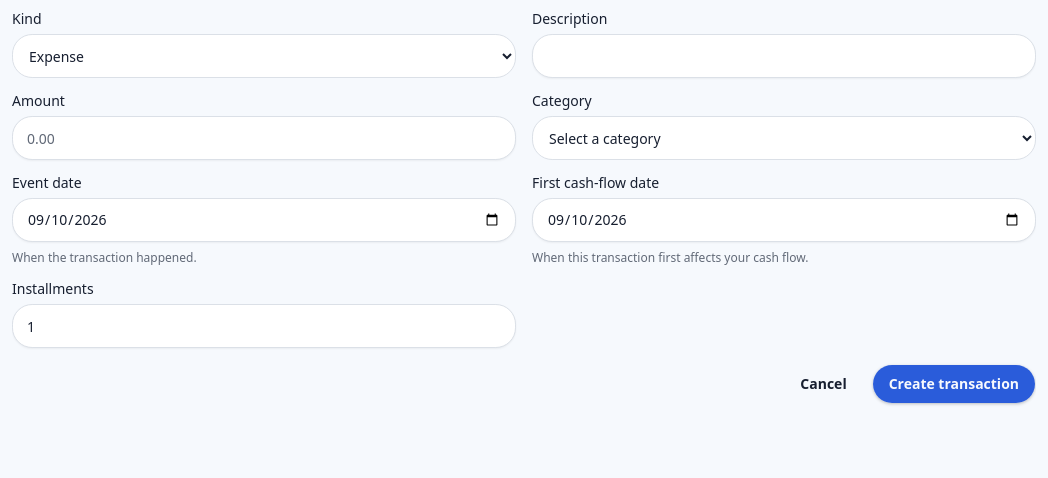
Test: TransactionForm › continues to validate the visible expense installment range
Type "Laptop" into the field labelled "Description" at (784, 56), box x1=532 y1=34 x2=1036 y2=78
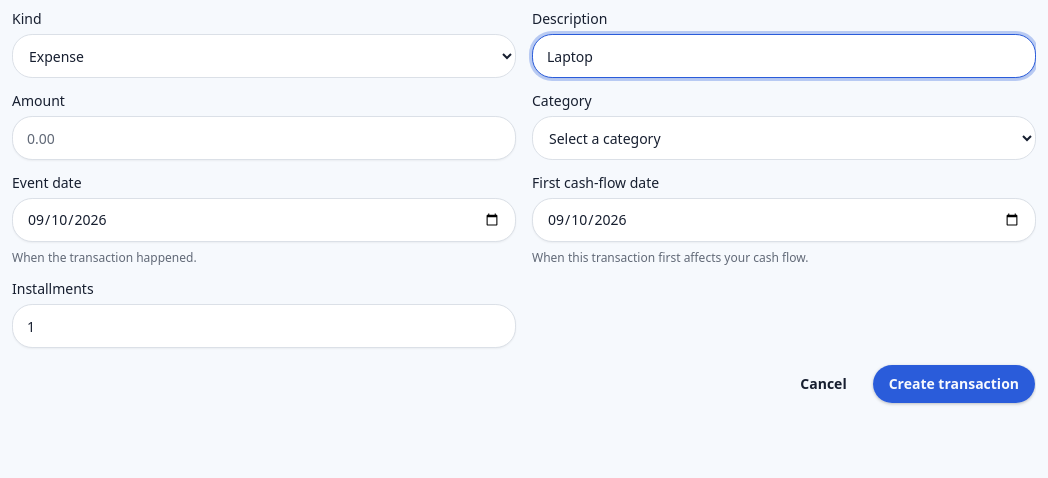
Type "100.00" into the field labelled "Amount" at (264, 138), box x1=12 y1=116 x2=516 y2=160
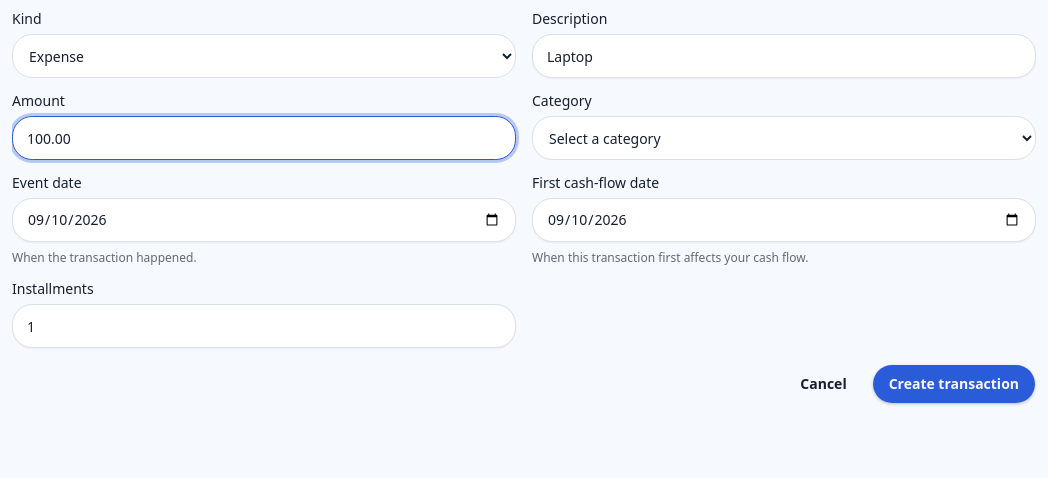
Select "Food and dining" in the dropdown labelled "Category" at (784, 138), box x1=532 y1=116 x2=1036 y2=160
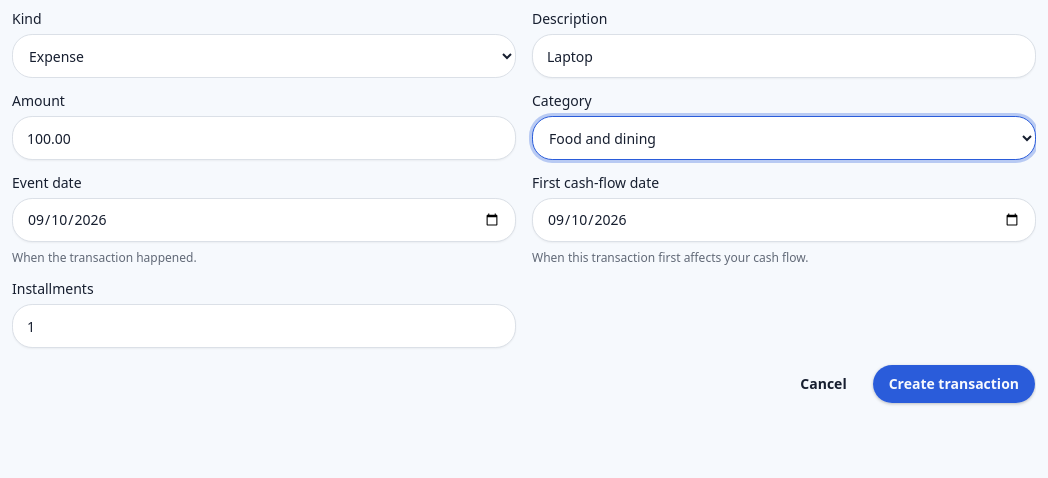
Replace the text in the number field labelled "Installments" with "121" at (264, 326), box x1=12 y1=304 x2=516 y2=348
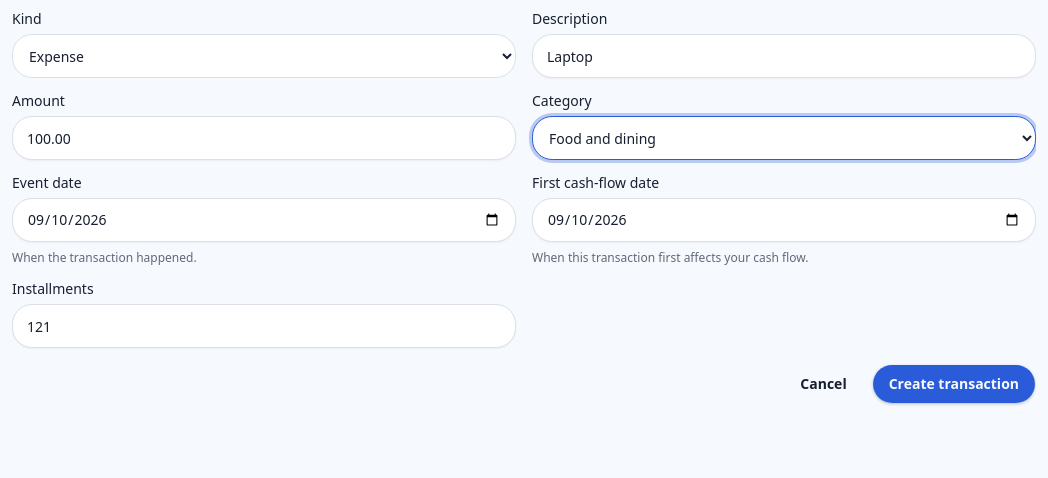
Click the button "Create transaction" at (954, 384), box x1=872 y1=364 x2=1036 y2=404
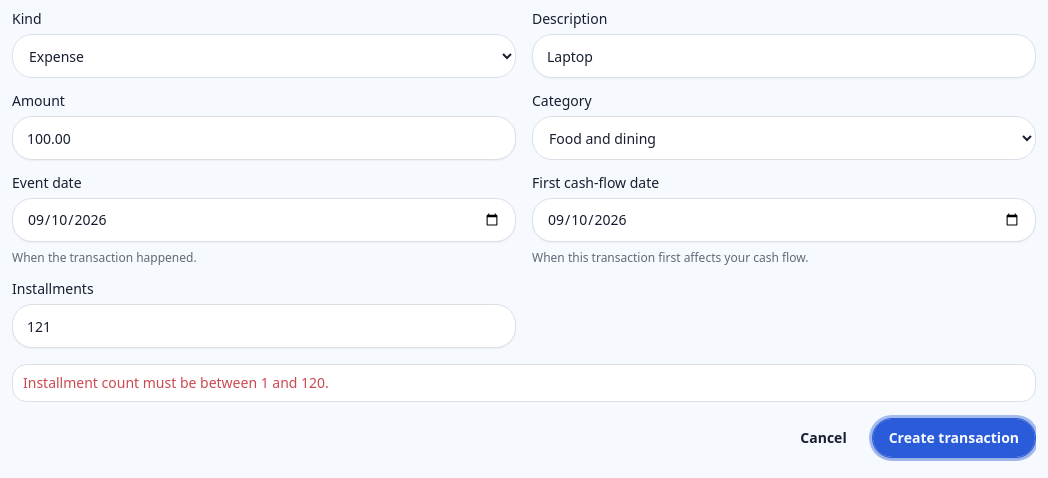
expect the text "Installment count must be between 1 and 120." is shown: met, box x1=23 y1=373 x2=329 y2=392
